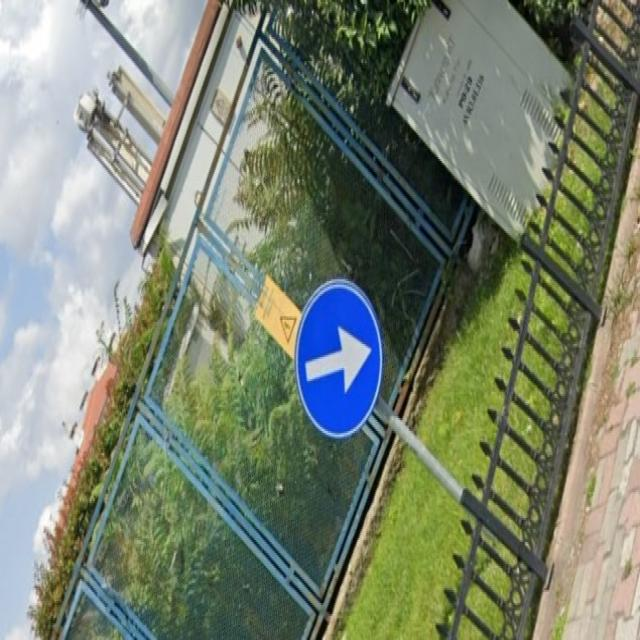Turn Right: (295, 278, 384, 437)
